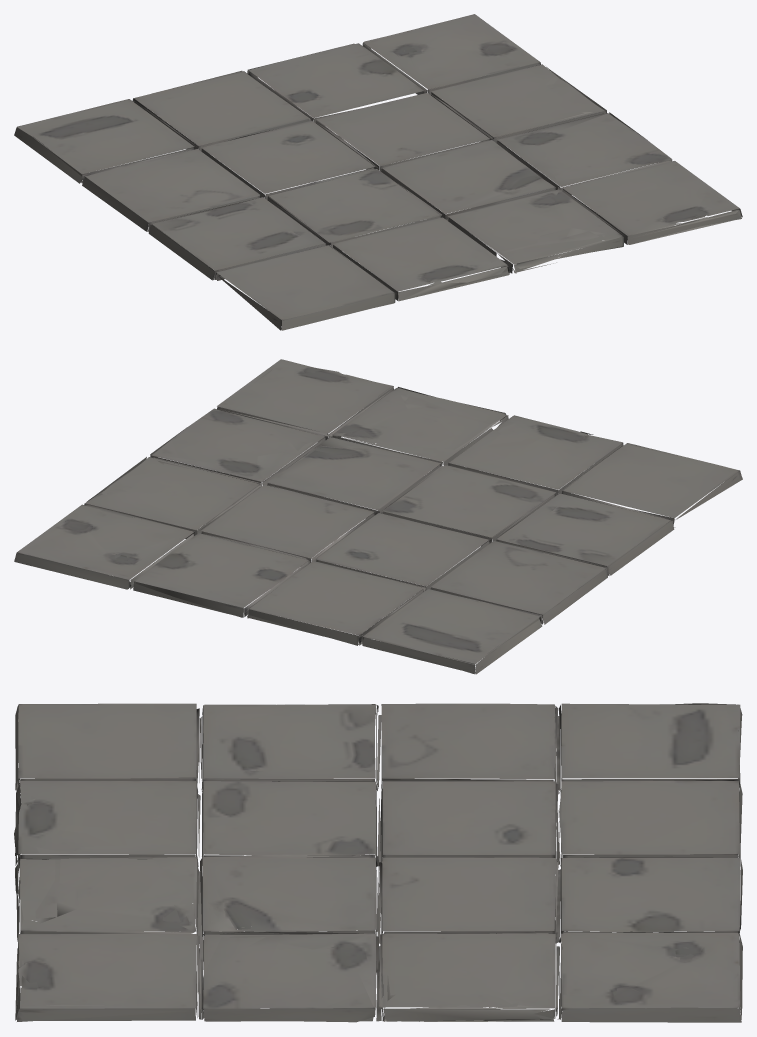
File: floor.glb
3 views of the same model, one above another, from view 1: azimuth 30°, elevation 25°; view 2: azimuth 150°, elevation 25°; view 3: azimuth 270°, elevation 25° (orthographic). The views are drawn at different scales.
Parts seen in each view (by area): view 1: Industrial_floor; view 2: Industrial_floor; view 3: Industrial_floor.
Part boxes in pixels (x1,y1,x2,y2): Industrial_floor: [14, 14, 742, 330]; Industrial_floor: [14, 359, 742, 674]; Industrial_floor: [14, 703, 742, 1022].
Bounding box in the file's own units: 4 × 0.1015 × 4.
1 material, 1 textured.
